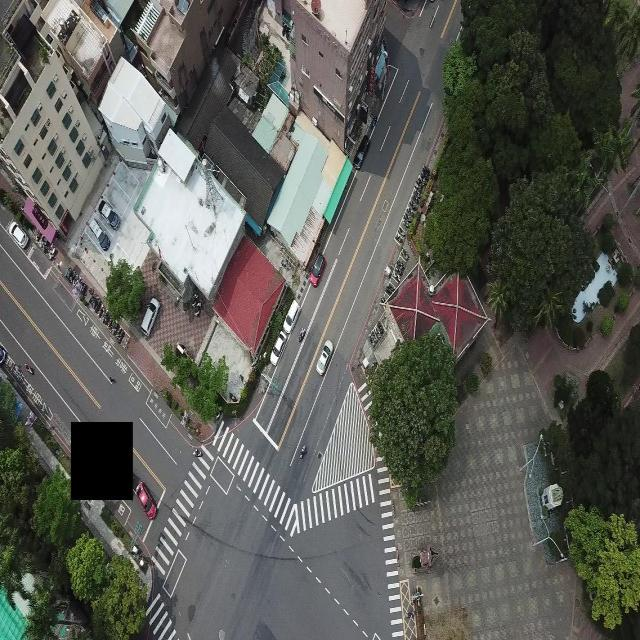bike: (298, 327, 305, 343), (299, 444, 306, 460)
car: (141, 296, 162, 336), (134, 481, 156, 518), (86, 216, 109, 249), (100, 194, 121, 229), (270, 330, 289, 365), (317, 338, 334, 376), (309, 252, 326, 288), (7, 220, 28, 249), (354, 136, 372, 168), (283, 300, 300, 332)
